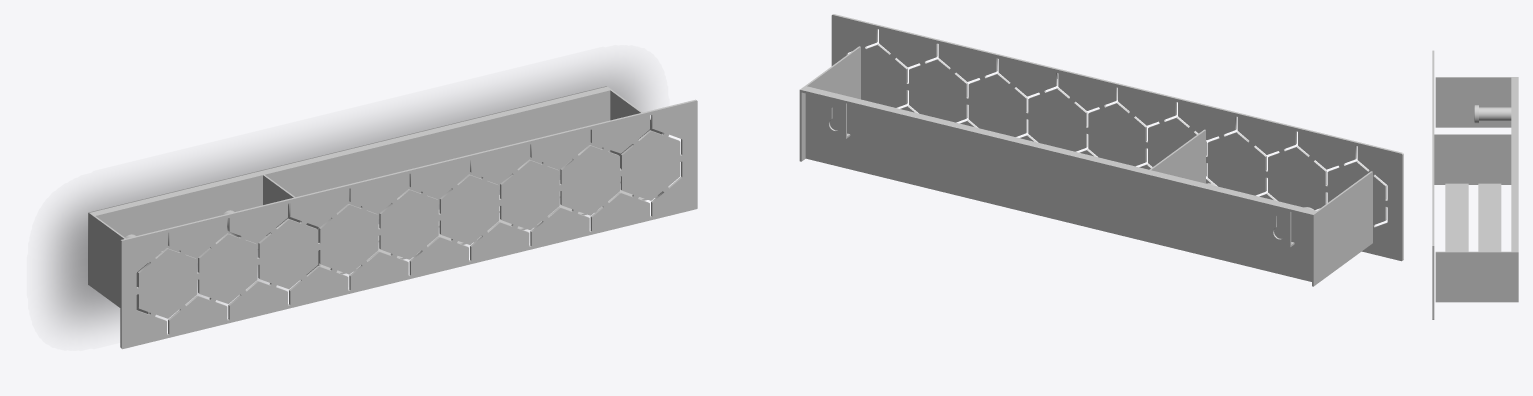
File: bee-patron.71666f7e7f.ar.glb
3 views of the same model, side by side, from view 1: azimuth 30°, elevation 25°; view 2: azimuth 150°, elevation 25°; view 3: azimuth 270°, elevation 25° (orthographic). The views are drawn at different scales.
Visible parts, largest first — view 1: NAUO1, object 2; view 2: NAUO1; view 3: NAUO1.
Boxes of the visible parts, x1,y1,x2,y2 form: NAUO1: [88, 86, 697, 349]; object 2: [49, 70, 646, 325]; NAUO1: [799, 14, 1403, 286]; NAUO1: [1432, 50, 1518, 319].
Bounding box in the file's own units: 0.58 × 0.17 × 0.0935.
Materials: 2 (1 with a texture image).
